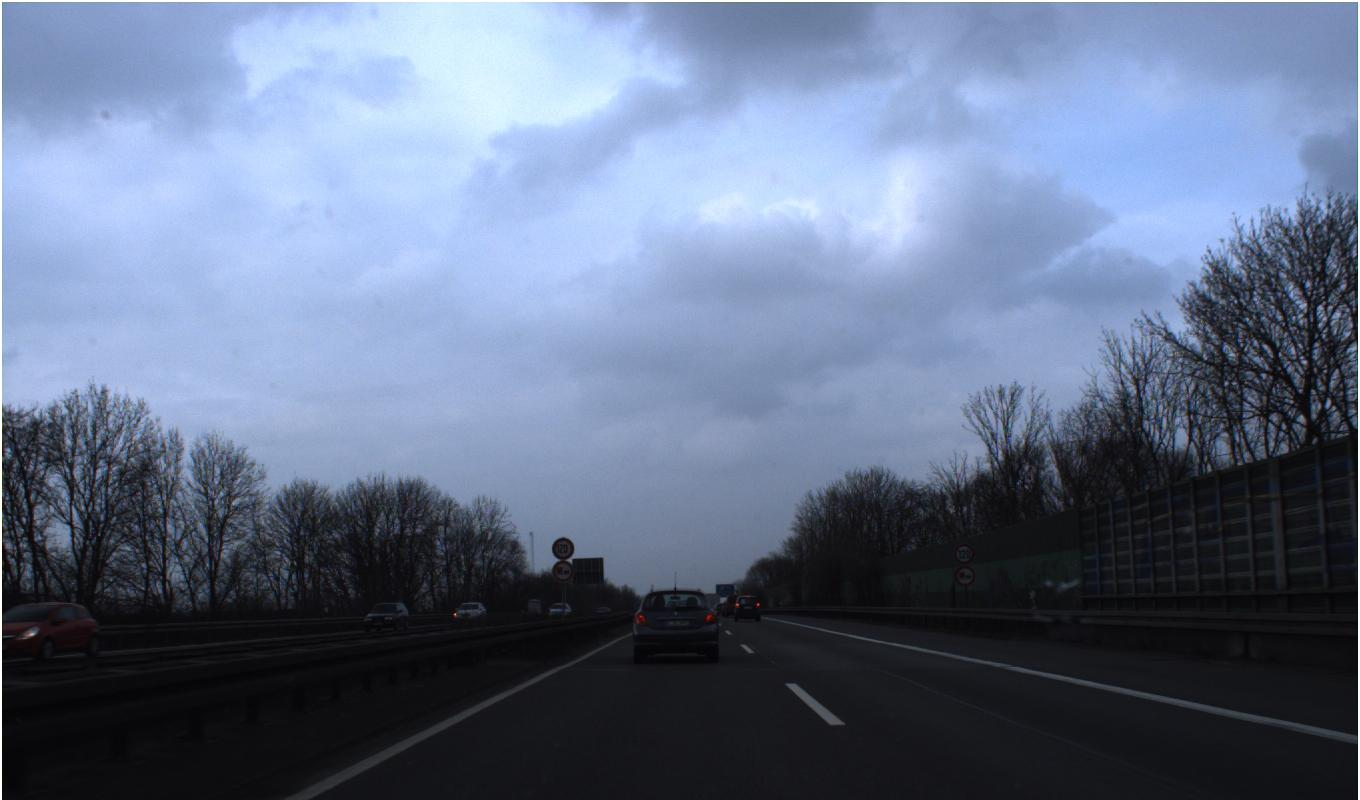prohibitory: (551, 559, 575, 583), (551, 535, 575, 559), (953, 564, 976, 587), (952, 540, 975, 563)
